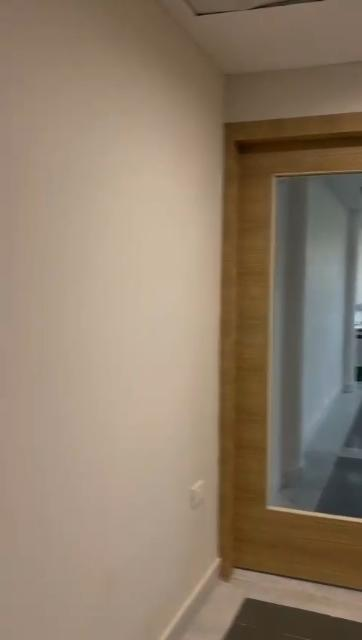door: (227, 132, 362, 572)
floor: (173, 571, 362, 640)
wall: (0, 0, 208, 598)
